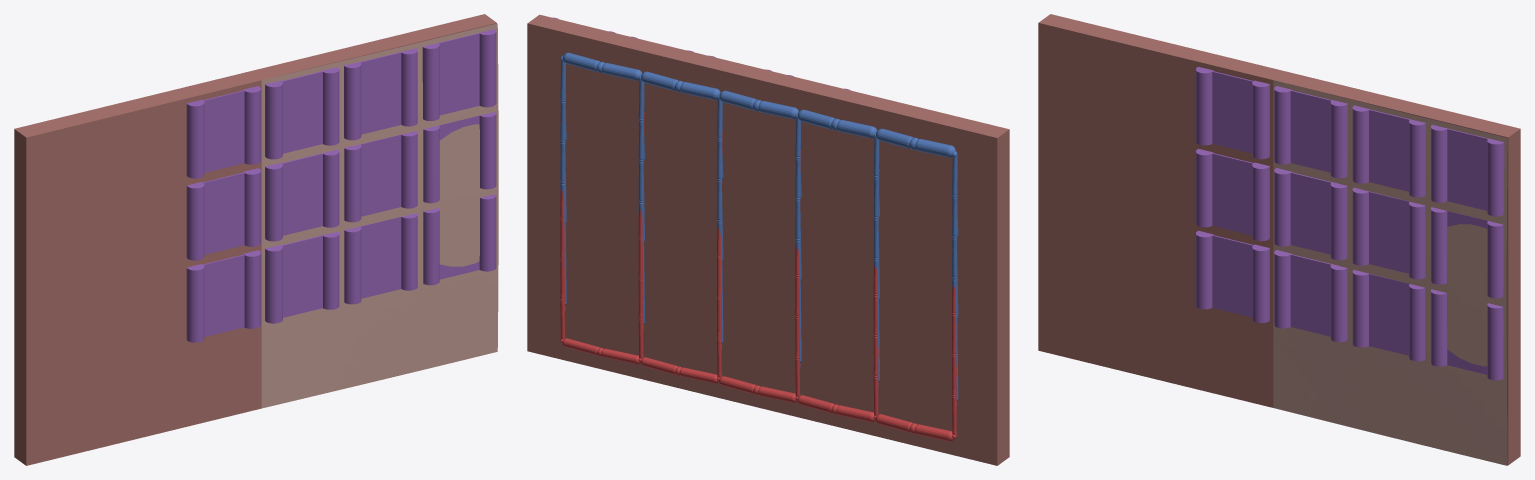
The model's file is dranmar_perfused_tissue_venous_congestion.glb.
The picture shows the model from 3 angles, left to right: view 1: azimuth 30°, elevation 25°; view 2: azimuth 150°, elevation 25°; view 3: azimuth 330°, elevation 25°; orthographic projection.
Parts seen in each view (by area): view 1: TissueBulk, TissueSurface, Overlay_2, Overlay_1, Overlay_0, Overlay_5, Overlay_4, Overlay_3, Overlay_11, Overlay_8, Overlay_7, Overlay_6 (+2 smaller); view 2: TissueBulk, VT0, VT1, VT2, VT3, VT4, AT0, AT1, AT2, AT3, AT4, VB05 (+5 smaller); view 3: TissueBulk, TissueSurface, Overlay_1, Overlay_2, Overlay_0, Overlay_5, Overlay_4, Overlay_3, Overlay_8, Overlay_7, Overlay_6, Overlay_11 (+2 smaller).
Boxes of the visible parts, box(x1,y1,x2,y2) form: TissueBulk: box(14, 14, 496, 465); TissueSurface: box(261, 23, 498, 408); Overlay_2: box(186, 86, 260, 178); Overlay_1: box(186, 168, 260, 260); Overlay_0: box(186, 250, 260, 342); Overlay_5: box(265, 67, 339, 159); Overlay_4: box(265, 149, 339, 241); Overlay_3: box(265, 231, 339, 323); Overlay_11: box(422, 29, 496, 120); Overlay_8: box(344, 48, 417, 140); Overlay_7: box(344, 131, 417, 222); Overlay_6: box(344, 213, 417, 304); TissueBulk: box(527, 14, 1009, 465); VT0: box(876, 128, 955, 157); VT1: box(797, 109, 877, 138); VT2: box(719, 90, 798, 119); VT3: box(641, 71, 720, 99); VT4: box(562, 52, 642, 80); AT0: box(875, 414, 953, 441); AT1: box(797, 395, 875, 422); AT2: box(719, 376, 796, 402); AT3: box(640, 357, 718, 383); AT4: box(562, 338, 640, 364); VB05: box(560, 63, 566, 304); TissueBulk: box(1038, 14, 1520, 465); TissueSurface: box(1273, 80, 1507, 465); Overlay_1: box(1196, 149, 1269, 241); Overlay_2: box(1196, 67, 1269, 159); Overlay_0: box(1196, 230, 1269, 323); Overlay_5: box(1274, 86, 1347, 178); Overlay_4: box(1274, 168, 1347, 260); Overlay_3: box(1274, 250, 1347, 342); Overlay_8: box(1352, 105, 1425, 197); Overlay_7: box(1352, 187, 1425, 279); Overlay_6: box(1352, 270, 1425, 361); Overlay_11: box(1431, 124, 1504, 216).
Size of the model in its own units: 0.18 by 0.12 by 0.0168.
